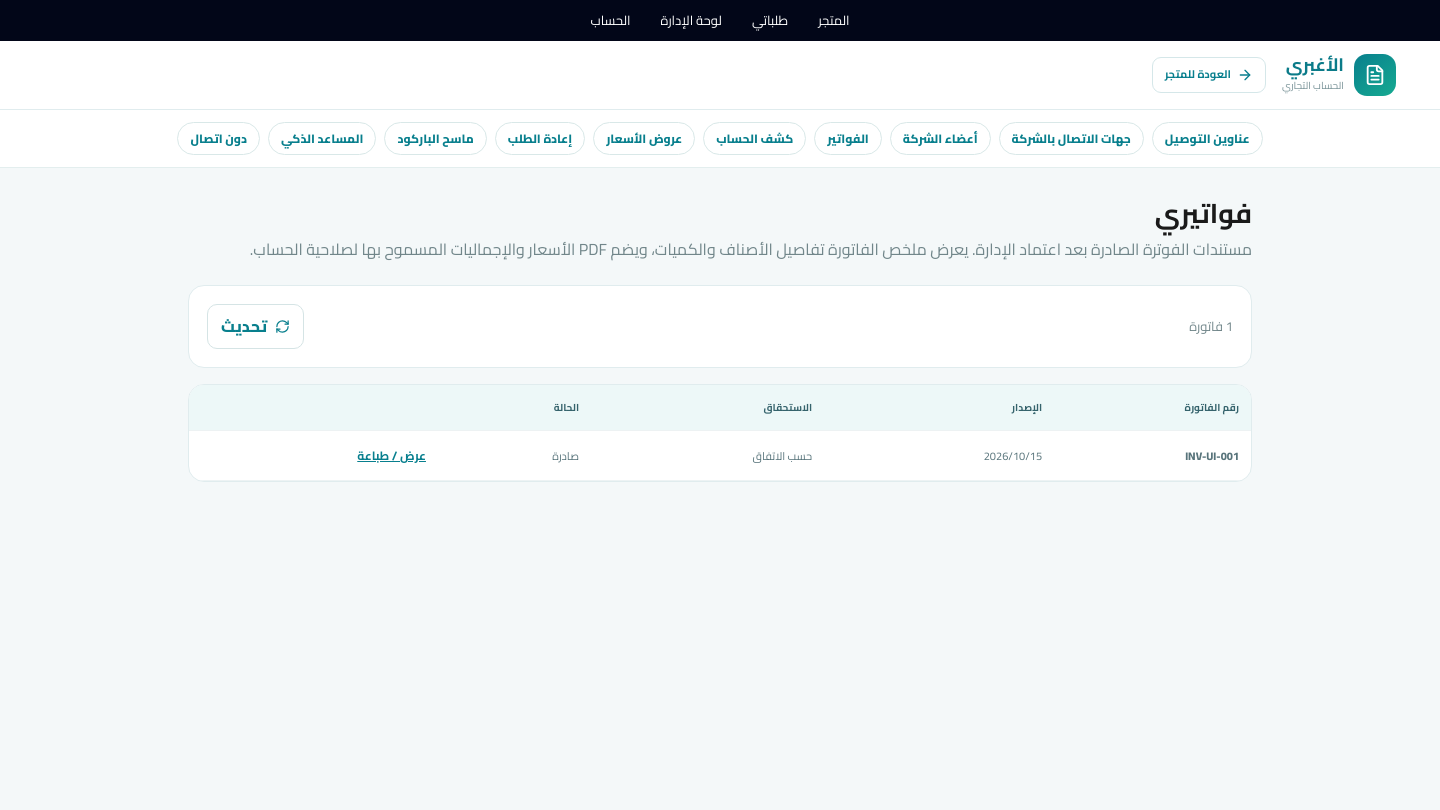
customer quote workspace tenant boundary › shows invoice prices in the customer preview only from the scoped invoice RPC
Click the button "عرض / طباعة".
click(392, 456)  # box top-left (357, 444), bottom-right (426, 467)
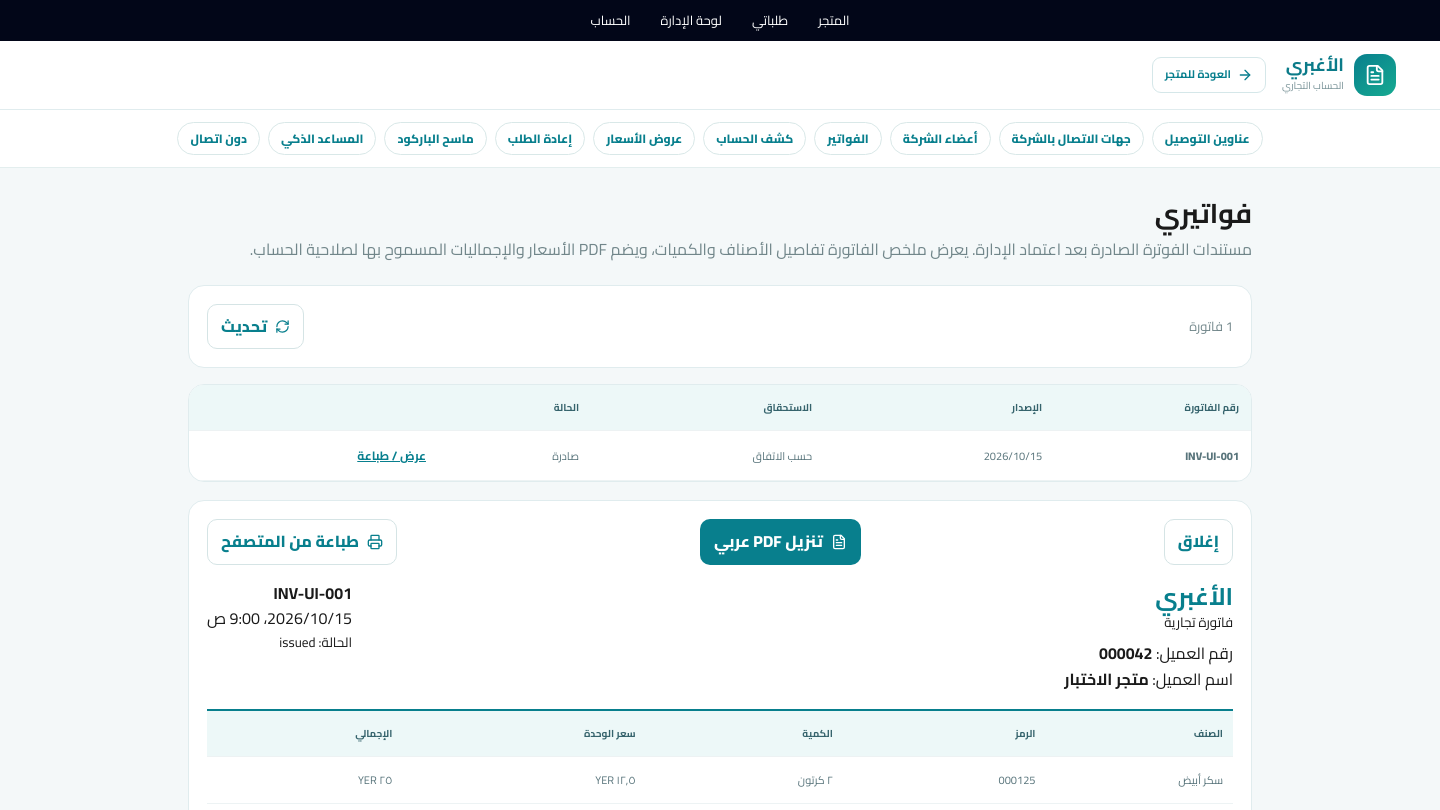
expect the text "سعر الوحدة" is shown: met, box top-left (410, 710), bottom-right (654, 756)
expect the text "متجر الاختبار" is shown: met, box top-left (1064, 664), bottom-right (1149, 694)
